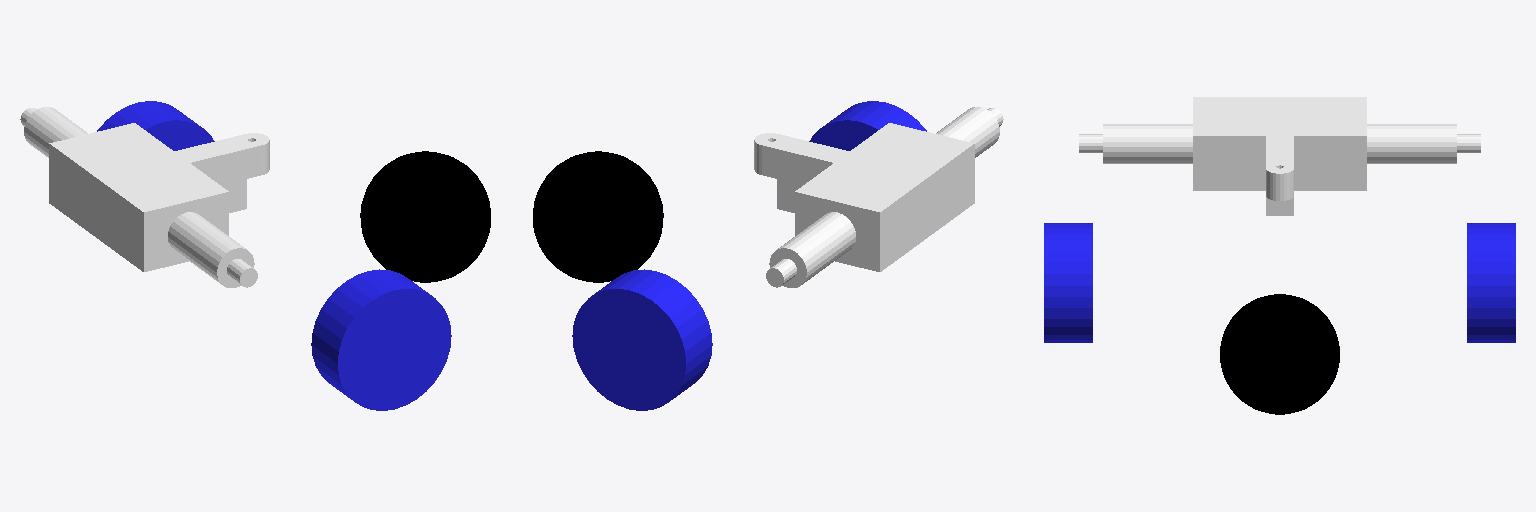
The robot description file, URDF, robot "robot":
<?xml version="1.0" ?>
<!-- =================================================================================== -->
<!-- |    This document was autogenerated by xacro from robot_core.xacro               | -->
<!-- |    EDITING THIS FILE BY HAND IS NOT RECOMMENDED                                 | -->
<!-- =================================================================================== -->
<robot>
  <!-- Specify some standard inertial calculations
    https://en.wikipedia.org/wiki/List_of_moments_of_inertia -->
  <!-- These make use of xacro's mathematical functionality -->
  <material name="white">
    <color rgba="1 1 1 1"/>
  </material>
  <material name="orange">
    <color rgba="1 0.3 0.1 1"/>
  </material>
  <material name="blue">
    <color rgba="0.2 0.2 1 1"/>
  </material>
  <material name="black">
    <color rgba="0 0 0 1"/>
  </material>
  <!-- base_link -->
  <link name="base_link">
    </link>
  <!-- chassis + base_link Joint -->
  <joint name="chassis_joint" type="fixed">
    <parent link="base_link"/>
    <child link="chassis"/>
    <origin xyz="-0.1 0 0"/>
  </joint>
  <!-- chassis link -->
  <link name="chassis">
    <visual>
      <origin rpy="0 0 0" xyz="0.15 0 0.075"/>
      <geometry>
        <mesh filename="package://jbot2/description/meshes/chassis.stl" scale="0.001 0.001 0.001"/>
      </geometry>
      <material name="white"/>
    </visual>
    <collision>
      <origin rpy="0 0 0" xyz="0.15 0 0.075"/>
      <geometry>
        <mesh filename="package://jbot2/description/meshes/chassis.stl" scale="0.001 0.001 0.001"/>
        <!-- <box size="0.3 0.3 0.15" /> -->
      </geometry>
    </collision>
    <inertial>
      <origin rpy="0 0 0" xyz="0.15 0 0.075"/>
      <mass value="0.5"/>
      <inertia ixx="0.004687499999999999" ixy="0.0" ixz="0.0" iyy="0.004687499999999999" iyz="0.0" izz="0.0075"/>
    </inertial>
  </link>
  <gazebo reference="chasis">
    <material>Gazebo/White</material>
    <geometry>
      <mesh package="[local-path]/jbot2_ws/install/jbot2/share/jbot2/description/meshes/chassis.stl" scale="0.001 0.001 0.001"/>
    </geometry>
  </gazebo>
  <!-- LEFT WHEEL -->
  <!-- left_wheel + base_link Joint -->
  <joint name="left_wheel_joint" type="continuous">
    <parent link="base_link"/>
    <child link="left_wheel"/>
    <origin rpy="-1.5707963267948966 0 0" xyz="0 0.175 0"/>
    <axis xyz="0 0 1"/>
  </joint>
  <!-- left_wheel link -->
  <link name="left_wheel">
    <visual>
      <geometry>
        <cylinder length="0.04" radius="0.05"/>
      </geometry>
      <material name="blue"/>
    </visual>
    <collision>
      <geometry>
        <cylinder length="0.04" radius="0.05"/>
      </geometry>
    </collision>
    <inertial>
      <origin rpy="0 0 0" xyz="0 0 0"/>
      <mass value="0.1"/>
      <inertia ixx="7.583333333333335e-05" ixy="0.0" ixz="0.0" iyy="7.583333333333335e-05" iyz="0.0" izz="0.00012500000000000003"/>
    </inertial>
  </link>
  <gazebo reference="left_wheel">
    <material>Gazebo/Blue</material>
  </gazebo>
  <!-- RIGHT WHEEL -->
  <!-- right_wheel + base_link Joint -->
  <joint name="right_wheel_joint" type="continuous">
    <parent link="base_link"/>
    <child link="right_wheel"/>
    <origin rpy="1.5707963267948966 0 0" xyz="0 -0.175 0"/>
    <axis xyz="0 0 -1"/>
  </joint>
  <!-- right_wheel link -->
  <link name="right_wheel">
    <visual>
      <geometry>
        <cylinder length="0.04" radius="0.05"/>
      </geometry>
      <material name="blue"/>
    </visual>
    <collision>
      <geometry>
        <cylinder length="0.04" radius="0.05"/>
      </geometry>
    </collision>
    <inertial>
      <origin rpy="0 0 0" xyz="0 0 0"/>
      <mass value="0.1"/>
      <inertia ixx="7.583333333333335e-05" ixy="0.0" ixz="0.0" iyy="7.583333333333335e-05" iyz="0.0" izz="0.00012500000000000003"/>
    </inertial>
  </link>
  <gazebo reference="right_wheel">
    <material>Gazebo/Blue</material>
  </gazebo>
  <!-- CASTER WHEEL -->
  <!-- caster_wheel + chassis Joint -->
  <joint name="caster_wheel_joint" type="fixed">
    <parent link="chassis"/>
    <child link="caster_wheel"/>
    <origin rpy="0 0 0" xyz="0.24 0 0"/>
  </joint>
  <!-- caster_wheel link -->
  <link name="caster_wheel">
    <visual>
      <geometry>
        <sphere radius="0.05"/>
      </geometry>
      <material name="black"/>
    </visual>
    <collision>
      <geometry>
        <sphere radius="0.05"/>
      </geometry>
    </collision>
    <inertial>
      <origin rpy="0 0 0" xyz="0 0 0"/>
      <mass value="0.1"/>
      <inertia ixx="0.00010000000000000005" ixy="0.0" ixz="0.0" iyy="0.00010000000000000005" iyz="0.0" izz="0.00010000000000000005"/>
    </inertial>
  </link>
  <gazebo reference="chasis">
    <material>Gazebo/Black</material>
    <mu1 value="0.001"/>
    <mu2 value="0.001"/>
  </gazebo>
</robot>

--- Render facts (derived) ---
3 views of the same robot in one strip: view 1: azimuth 30°, elevation 25°; view 2: azimuth 150°, elevation 25°; view 3: azimuth 270°, elevation 25° (orthographic).
Model robot with 5 links and 4 joints (2 continuous, 2 fixed), rooted at base_link, posed every joint at zero.
Visible links, largest first — view 1: chassis, right_wheel, caster_wheel, left_wheel; view 2: chassis, left_wheel, caster_wheel, right_wheel; view 3: chassis, caster_wheel, left_wheel, right_wheel.
Link boxes in pixels (box(x1,y1,x2,y2)): chassis: box(20, 107, 269, 287); right_wheel: box(311, 269, 451, 410); caster_wheel: box(360, 151, 490, 282); left_wheel: box(97, 101, 214, 150); chassis: box(754, 107, 1003, 287); left_wheel: box(572, 269, 712, 410); caster_wheel: box(533, 151, 663, 282); right_wheel: box(809, 101, 926, 150); chassis: box(1079, 97, 1480, 215); caster_wheel: box(1220, 294, 1339, 414); left_wheel: box(1467, 223, 1515, 342); right_wheel: box(1044, 223, 1092, 342).
Size in the robot's own frame: 0.3391 by 0.39 by 0.1502 metres.
Meshes: 1 distinct files referenced, 1 mesh visuals loaded (1 binary STL).